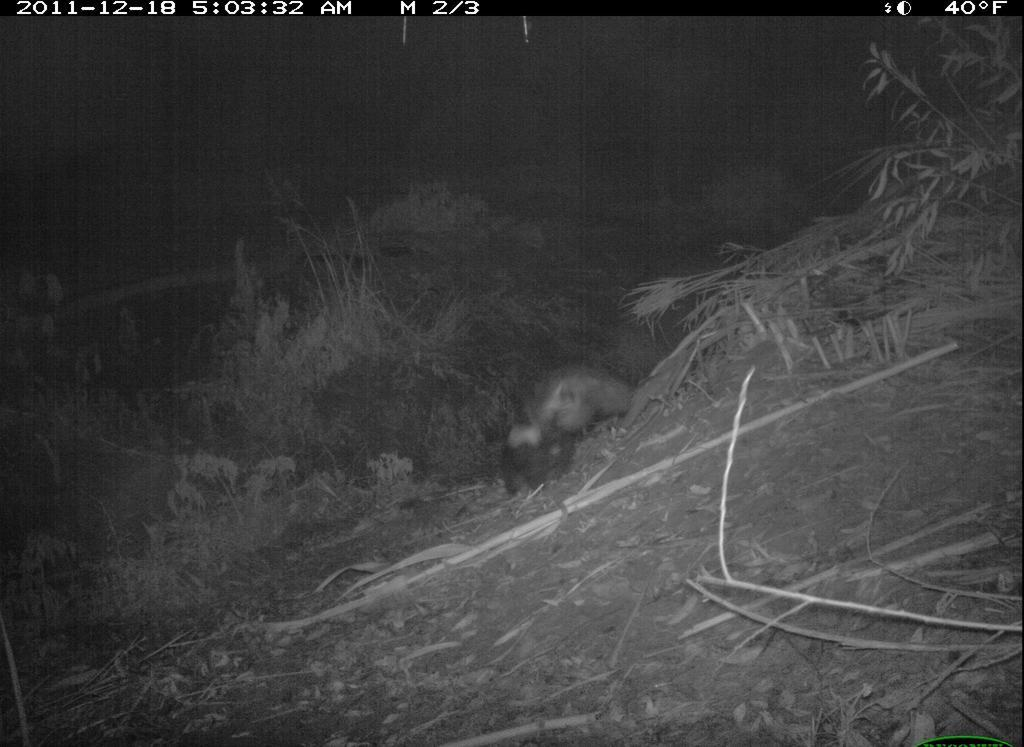skunk: (487, 331, 655, 498)
